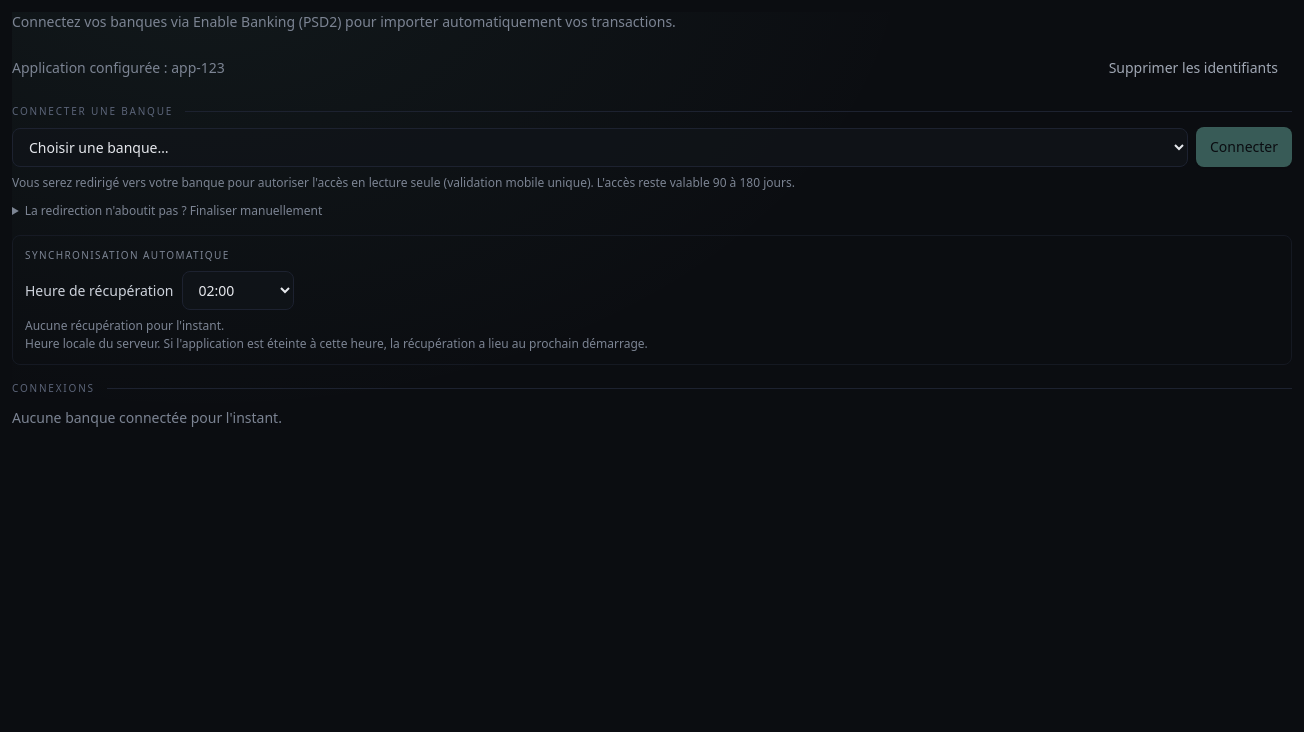
SettingsBankSync › finalizes a consent manually from a pasted redirect URL
The image size is (1304, 732).
Click the heading "La redirection n'aboutit pas ? Finaliser manuellement" at [174, 210], box x1=25 y1=202 x2=322 y2=219
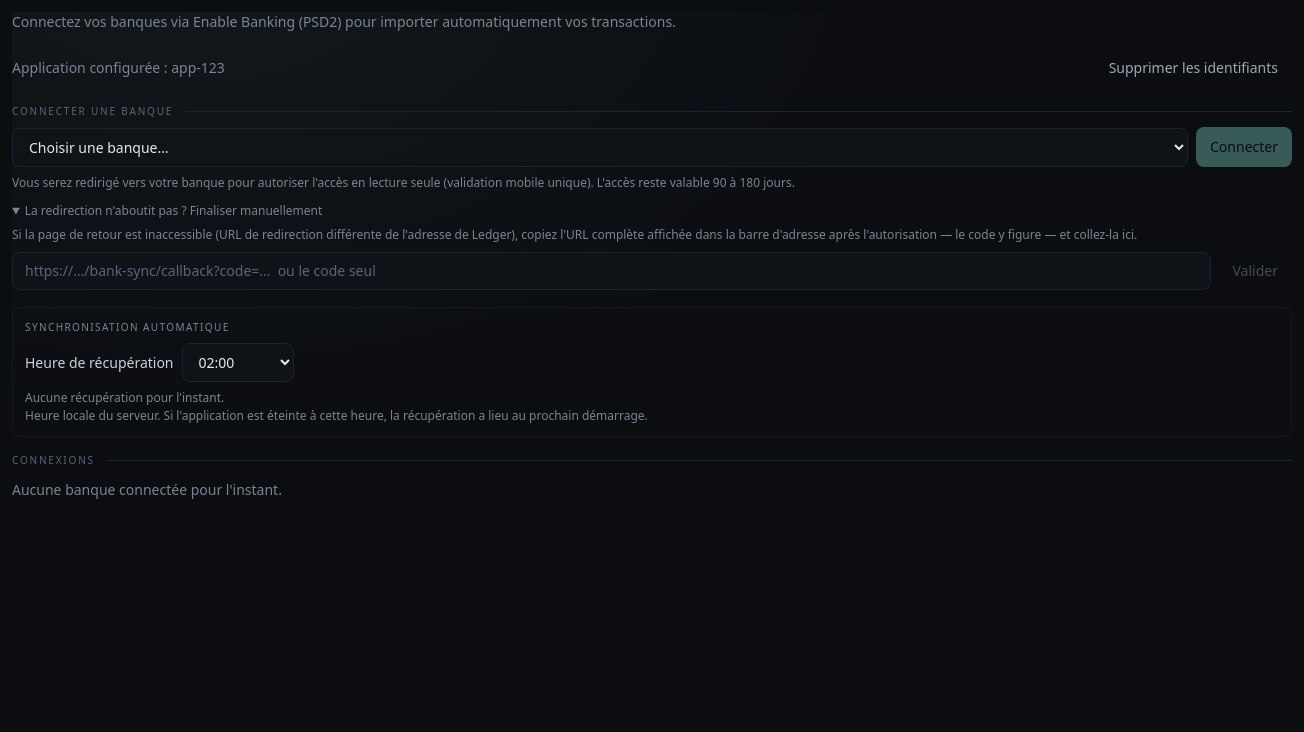
Type "http://unreachable.example/cb?code=code-42" into the field named "URL de retour ou code d'autorisation" at [611, 271], box x1=12 y1=252 x2=1210 y2=290
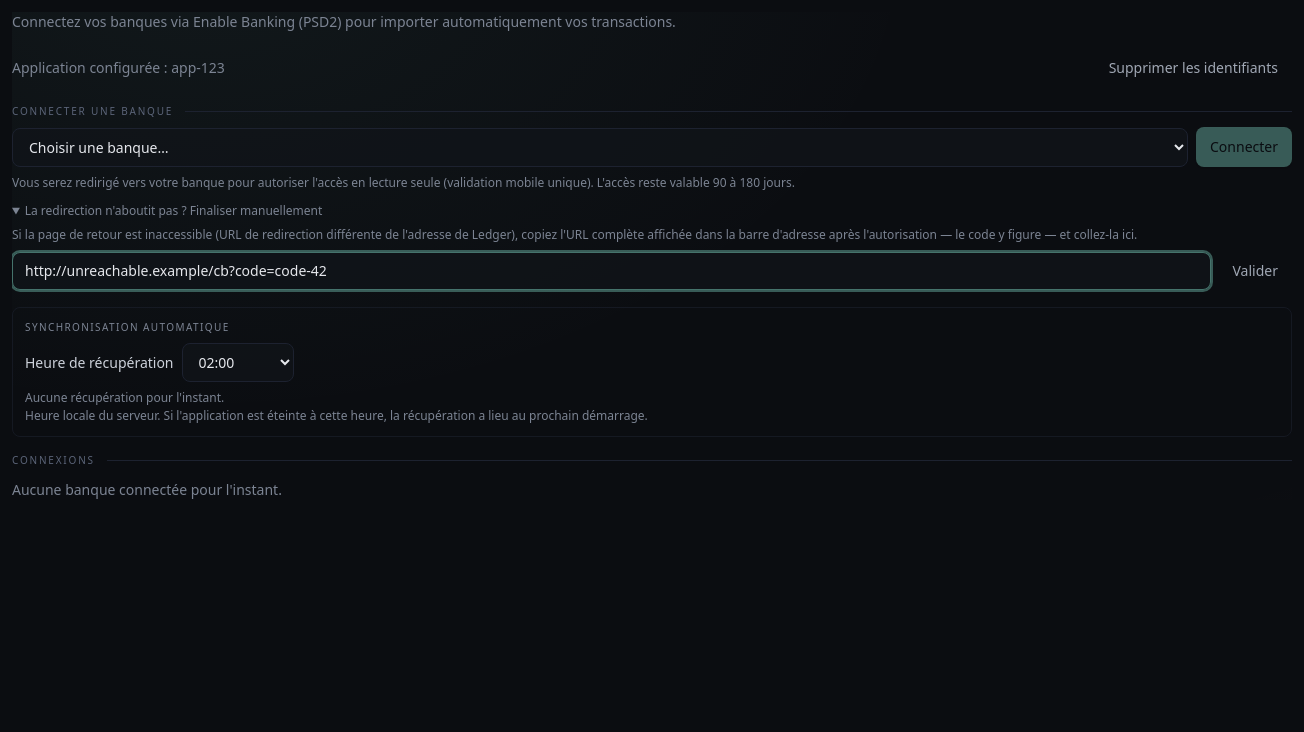
Click the button "Valider" at [1255, 271], box x1=1218 y1=251 x2=1292 y2=291
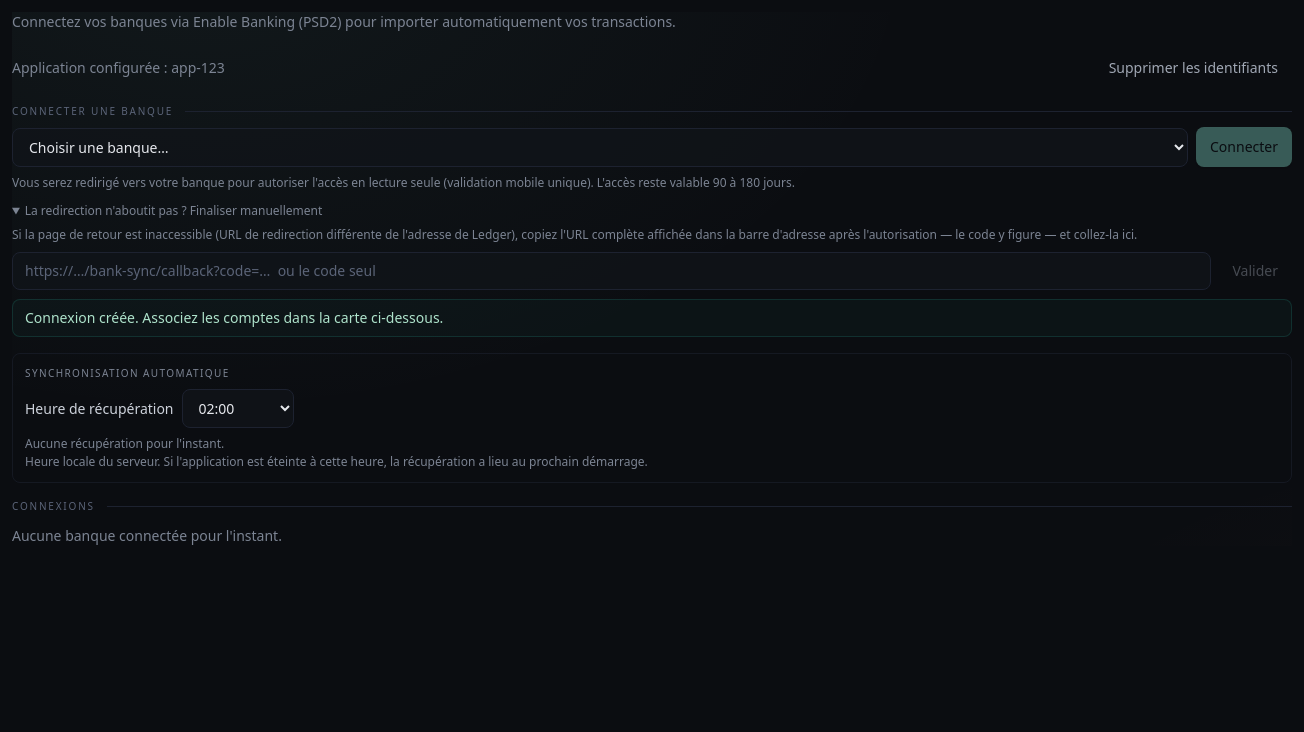
Result: the text "Connexion créée" is shown at x1=25 y1=308 x2=443 y2=327
